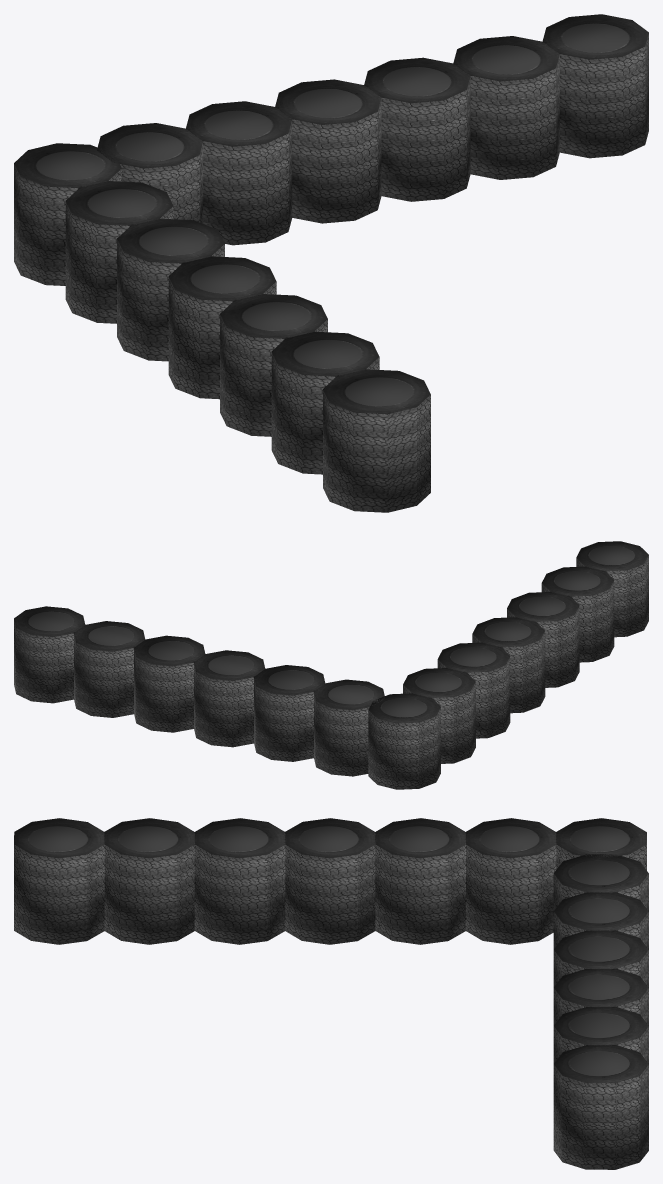
Rendered from wheels_corner.fbx.
3 renders of one model, top to bottom at view 1: azimuth 30°, elevation 25°; view 2: azimuth 150°, elevation 25°; view 3: azimuth 270°, elevation 25°, orthographic. The views are drawn at different scales.
Visible parts, largest first — view 1: wheels_corner; view 2: wheels_corner; view 3: wheels_corner.
Part boxes in pixels (<box>): wheels_corner: <box>14,14,648,512</box>; wheels_corner: <box>14,541,648,789</box>; wheels_corner: <box>14,818,648,1169</box>.
Size of the model in its own units: 200 by 30.36 by 202.
